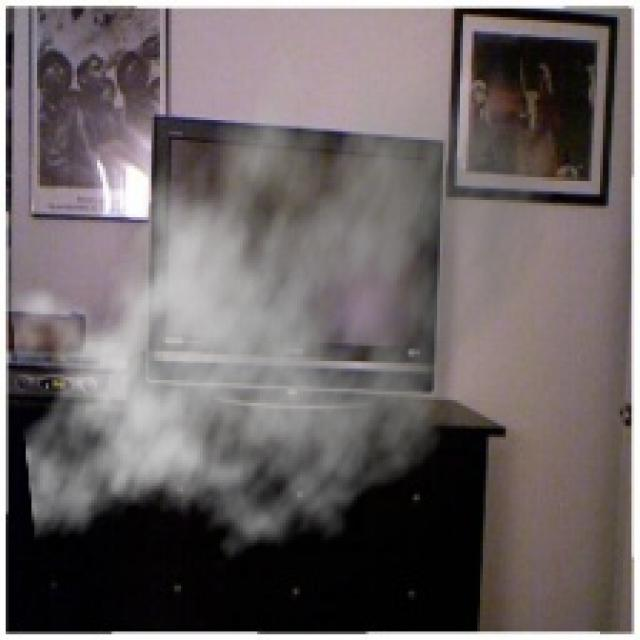smoke: (8, 9, 563, 577)
